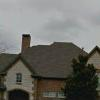Chimney: (12, 25, 42, 57)
